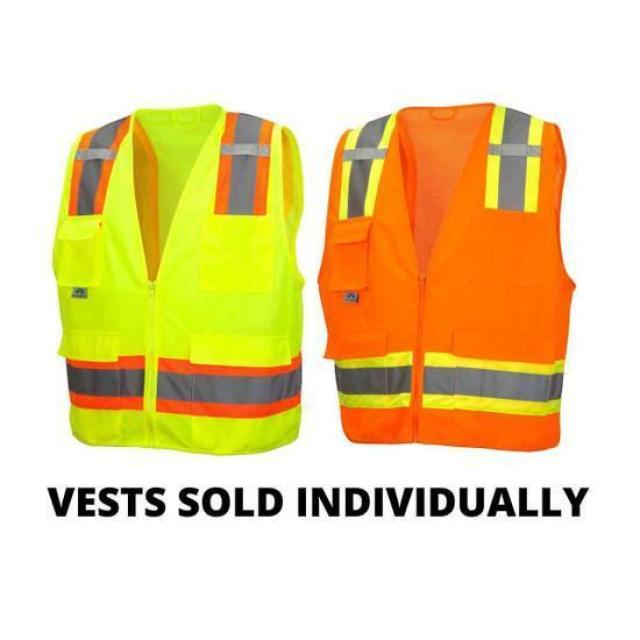Vest: (316, 102, 575, 454), (52, 110, 308, 452)
